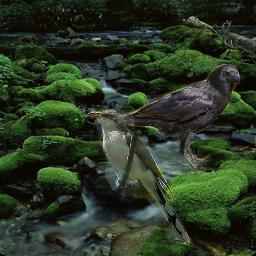Crow: (101, 64, 240, 174)
Cuckoo: (87, 109, 190, 245)
